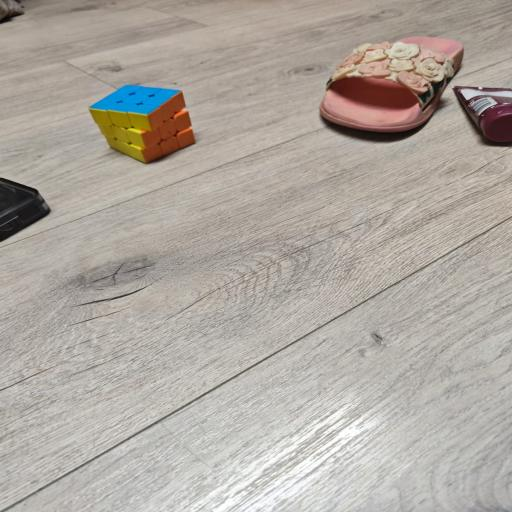Hand Cream: (450, 84, 512, 144)
Rubiks Cube: (88, 82, 195, 164)
